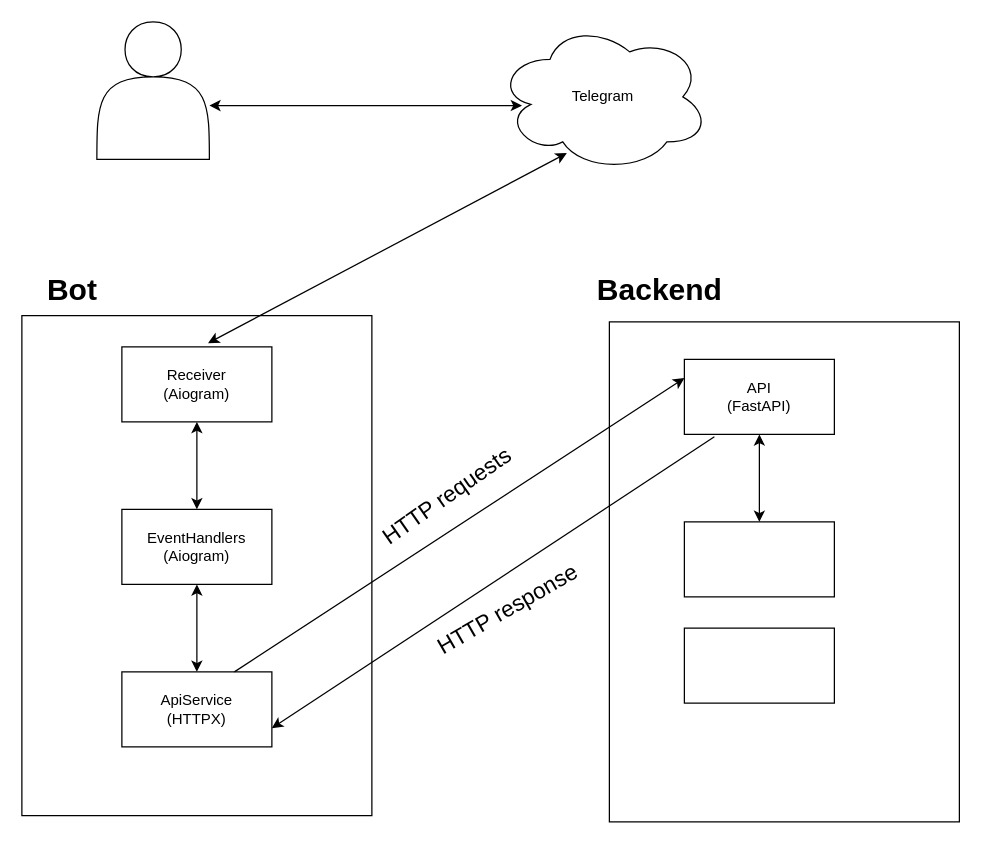
Some shapes in this 981 by 844 pixel diagram are drawn without their labels. Each missing label, with the centre of its shape:
"MicroServices" goes at pixel 758 559.
"MicroServices Tests" goes at pixel 758 665.
"user" goes at pixel 152 90.
